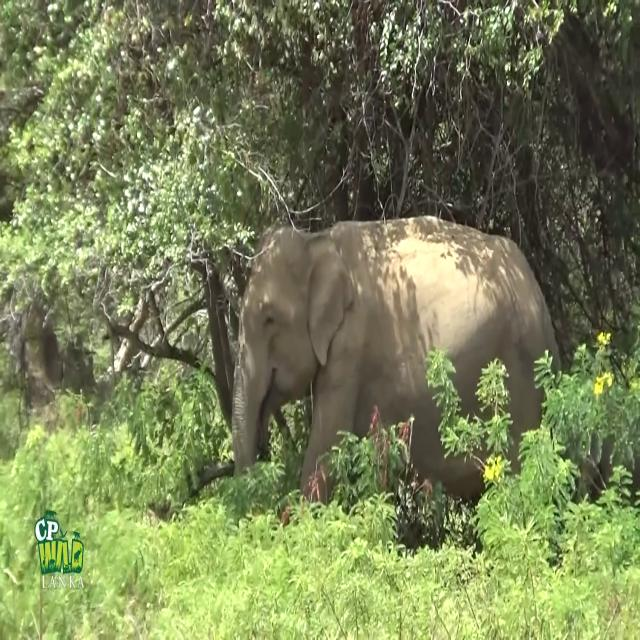Elephant: (230, 214, 562, 511)
